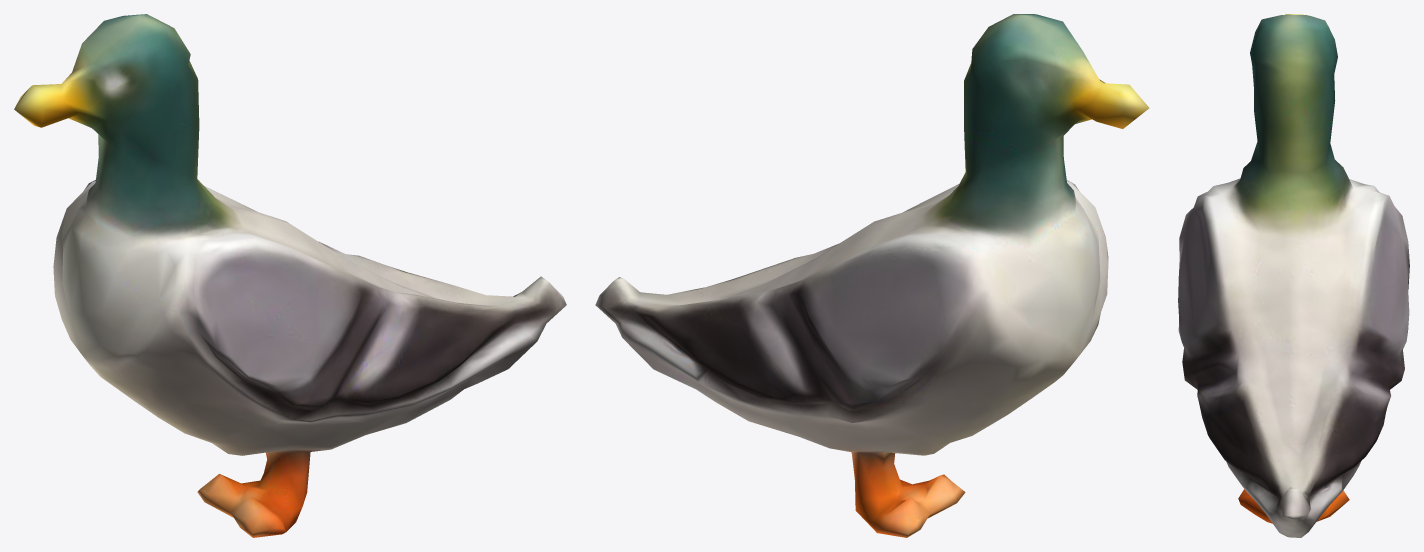
The model's file is duck.glb.
3 views of the same model, side by side, from view 1: azimuth 30°, elevation 25°; view 2: azimuth 150°, elevation 25°; view 3: azimuth 270°, elevation 25° (orthographic). The views are drawn at different scales.
Parts seen in each view (by area): view 1: tripo_node_01a21ca5-a7e0-77cb-98c3-03dcbd2e88ac; view 2: tripo_node_01a21ca5-a7e0-77cb-98c3-03dcbd2e88ac; view 3: tripo_node_01a21ca5-a7e0-77cb-98c3-03dcbd2e88ac.
Boxes of the visible parts, <box> form: tripo_node_01a21ca5-a7e0-77cb-98c3-03dcbd2e88ac: <box>14,14,566,537</box>; tripo_node_01a21ca5-a7e0-77cb-98c3-03dcbd2e88ac: <box>595,14,1149,537</box>; tripo_node_01a21ca5-a7e0-77cb-98c3-03dcbd2e88ac: <box>1178,14,1409,537</box>.
Size of the model in its own units: 0.4 by 0.371 by 0.1727.
1 material, 1 textured.
